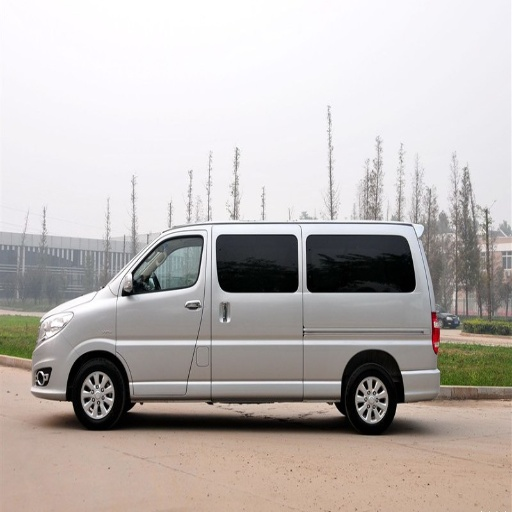front_left_door: (117, 234, 210, 394)
trunk: (218, 299, 437, 396)
